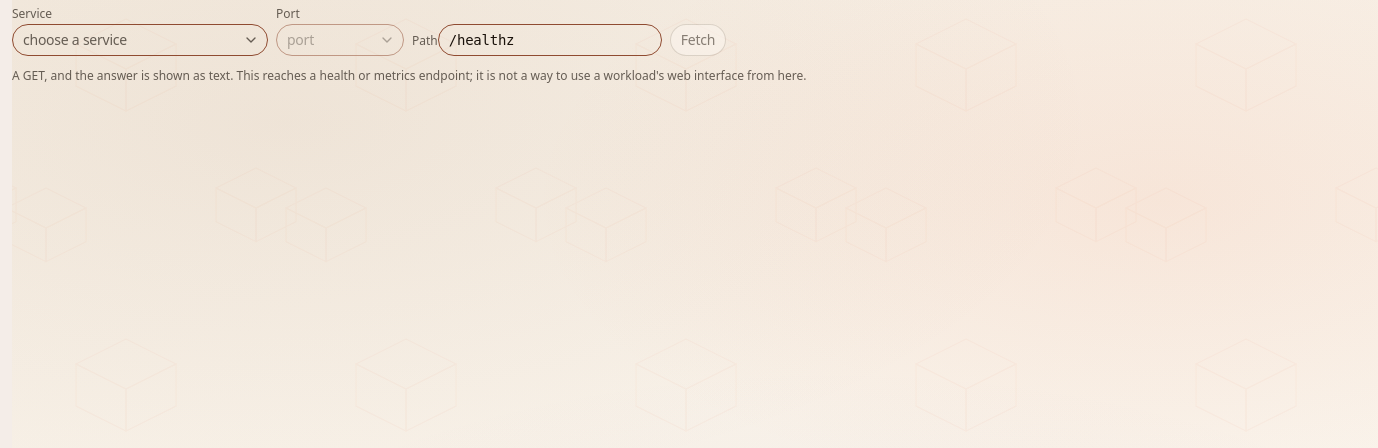
Test: reaching a service › sends the service, the port and the path that were chosen
The width and height of the screenshot is (1378, 448).
Click the dropdown labelled "service" at (140, 40), box [12, 24, 268, 56]
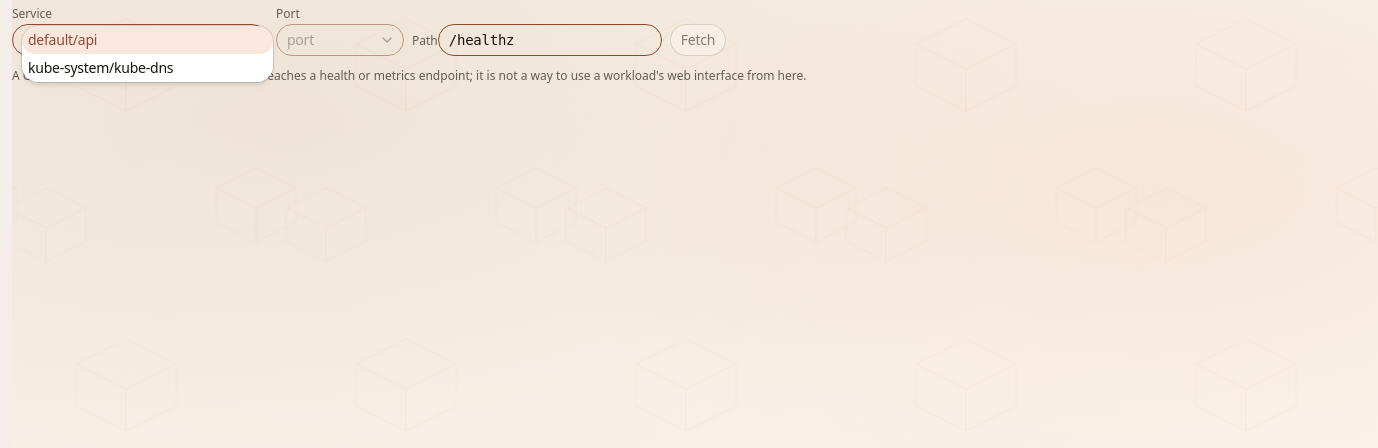
Click the option "default/api" at (148, 40), box [22, 26, 273, 54]
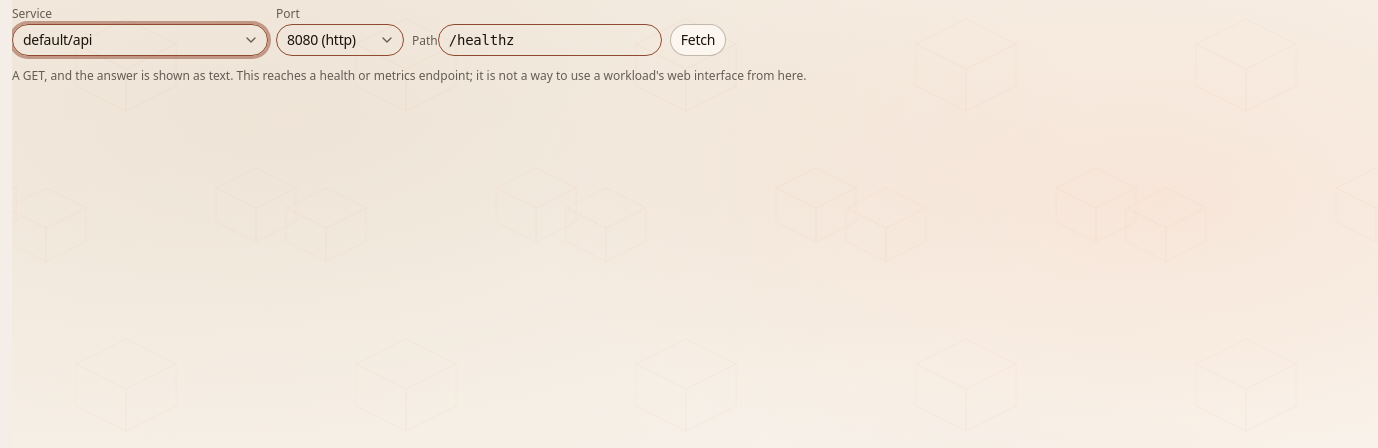
Click the button "Fetch" at (698, 40), box [670, 24, 726, 56]
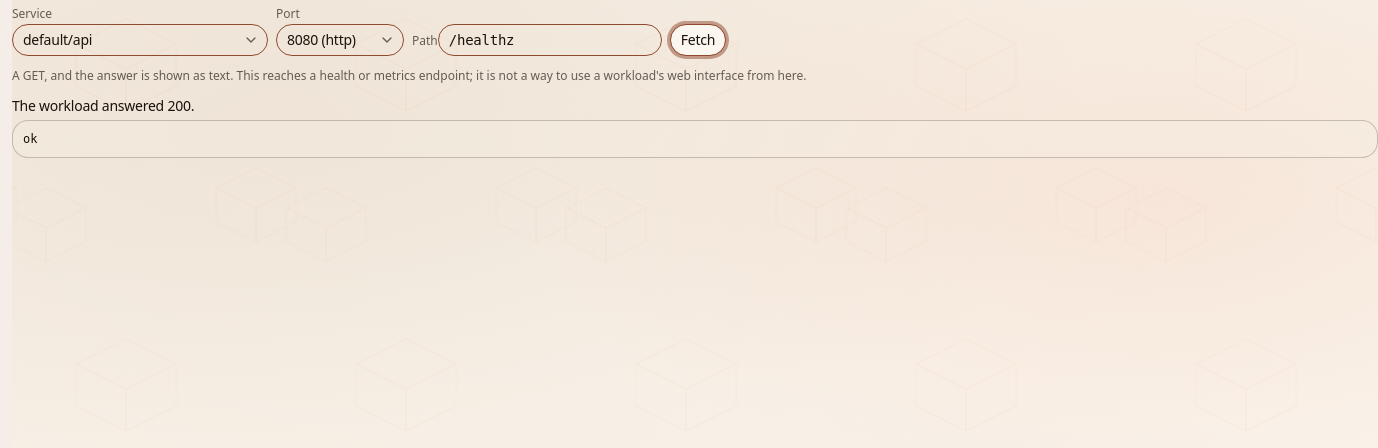
Result: the message shows "answered 200" at [12, 96, 194, 115]
